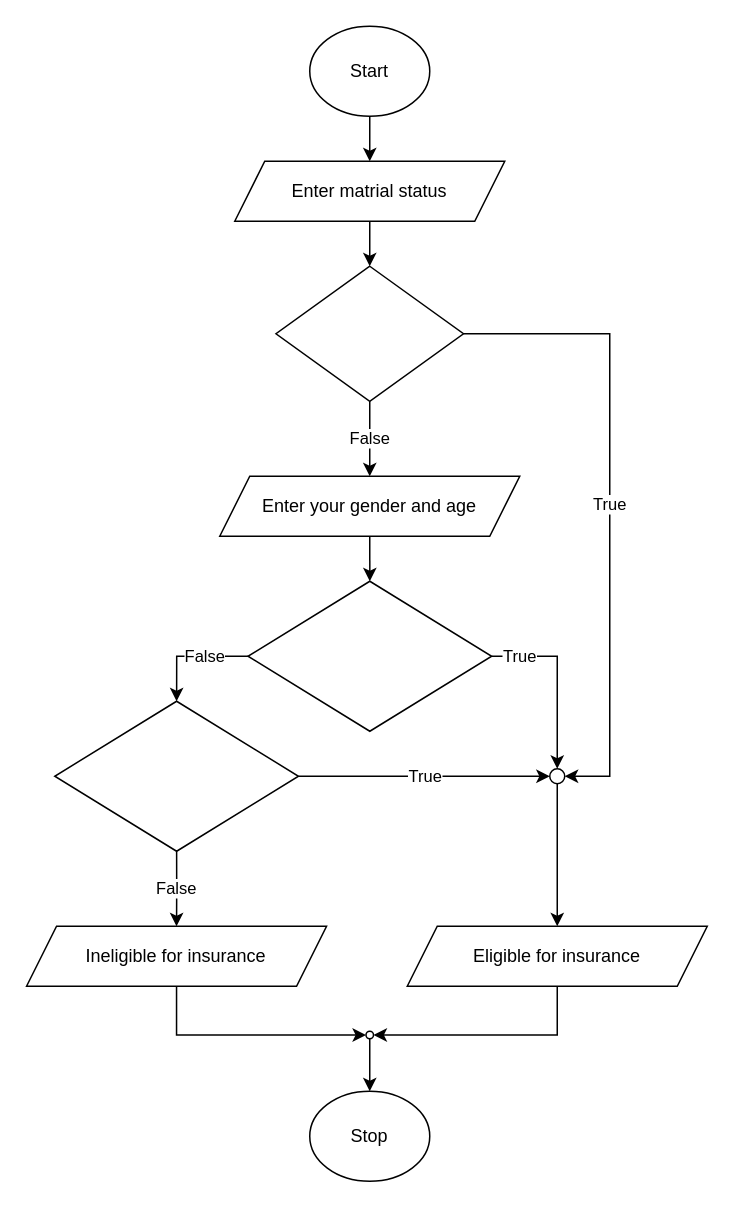
Image size: 734x1208. Some labels were removed from this diagram. Here are the shapes that lost their labels. From the top down, the centre of each, then its label:
At [369,333]: "is mstatus=='m'".
At [369,655]: "is gender=='m' && age>30".
At [175,775]: "is gender=='f' && age>25".
